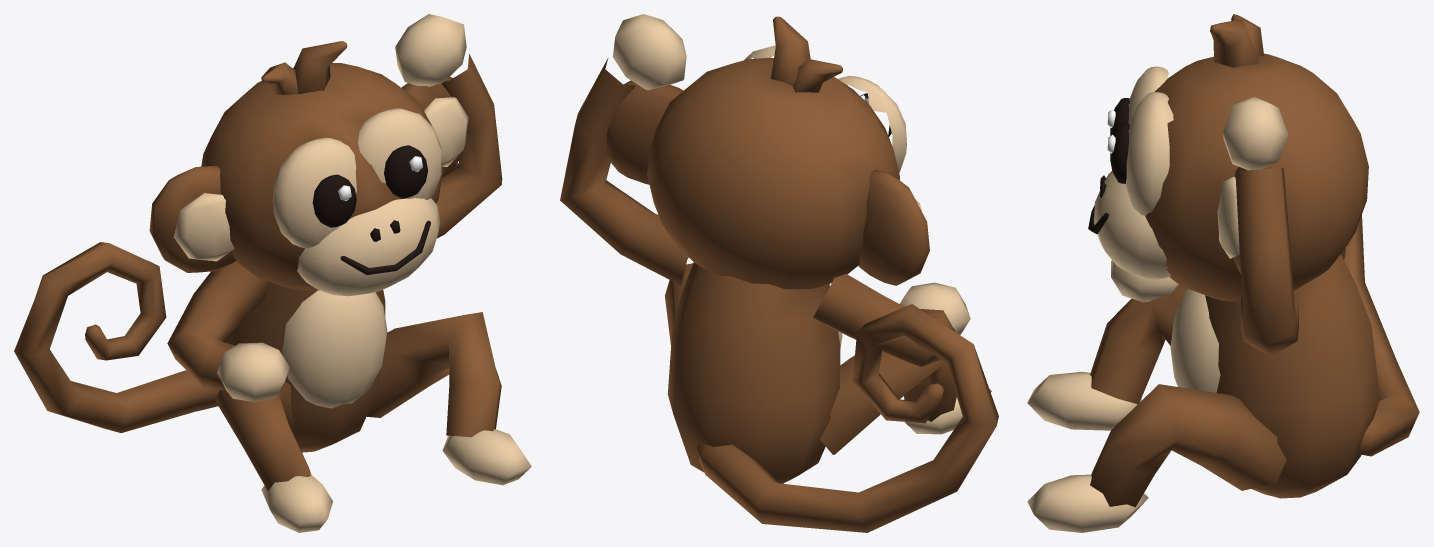
File: monkey_sit.glb
3 renders of one model, left to right at view 1: azimuth 30°, elevation 25°; view 2: azimuth 150°, elevation 25°; view 3: azimuth 270°, elevation 25°, orthographic. The views are drawn at different scales.
Visible parts, largest first — view 1: MonkeySit; view 2: MonkeySit; view 3: MonkeySit.
Part boxes in pixels (bbox=[...]): MonkeySit: bbox=[14, 14, 531, 532]; MonkeySit: bbox=[560, 14, 998, 532]; MonkeySit: bbox=[1027, 14, 1419, 532].
Bounding box in the file's own units: 1.02 × 0.9123 × 0.6896.
